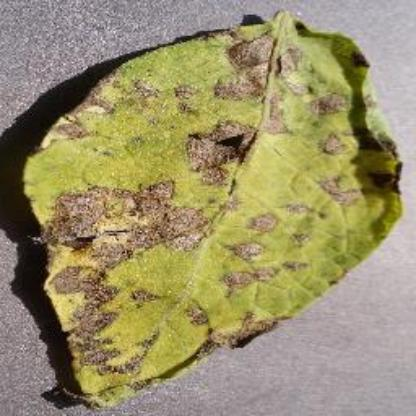Early-Blight: (22, 10, 404, 410)
